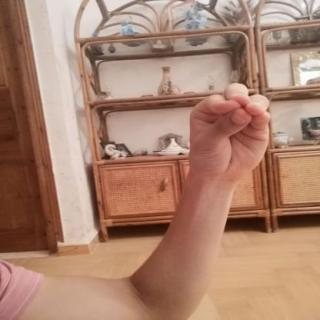HA: (175, 76, 283, 194)
